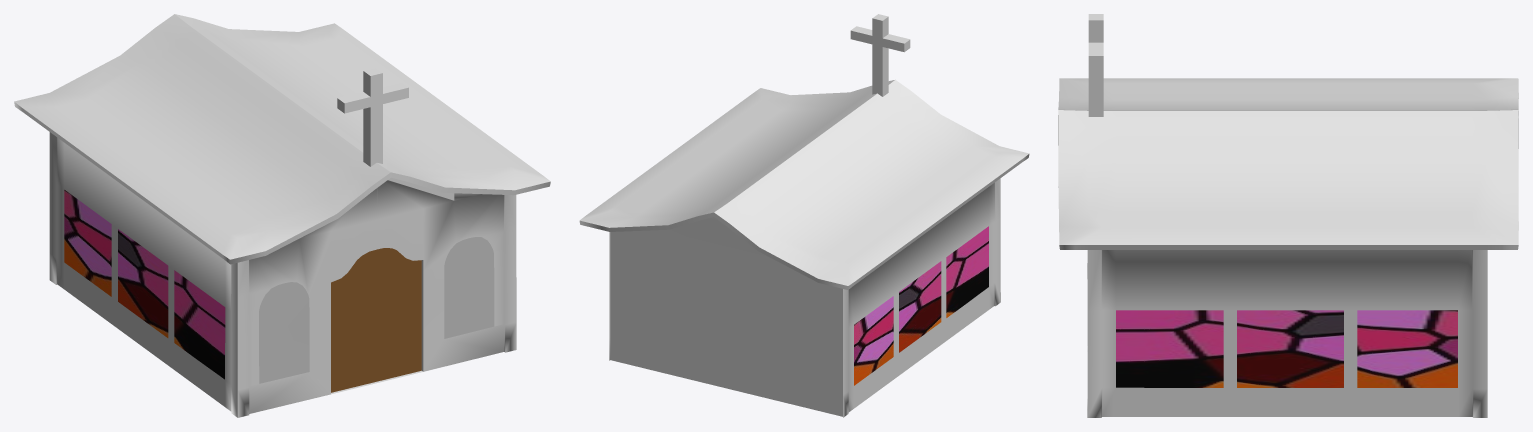
The model's file is igreja.fbx.
3 views of the same model, side by side, from view 1: azimuth 30°, elevation 25°; view 2: azimuth 150°, elevation 25°; view 3: azimuth 270°, elevation 25° (orthographic). The views are drawn at different scales.
Visible parts, largest first — view 1: Cube, Cube.002, Cube.001; view 2: Cube, Cube.002, Cube.001; view 3: Cube.002, Cube, Cube.001.
Part boxes in pixels (left/top/right/bottom): Cube: left=49, top=132, right=516, bottom=417; Cube.002: left=14, top=14, right=550, bottom=264; Cube.001: left=337, top=68, right=408, bottom=166; Cube: left=609, top=178, right=1000, bottom=417; Cube.002: left=579, top=79, right=1029, bottom=289; Cube.001: left=850, top=14, right=910, bottom=96; Cube.002: left=1058, top=78, right=1518, bottom=249; Cube: left=1087, top=250, right=1487, bottom=417; Cube.001: left=1088, top=14, right=1103, bottom=116.
Size of the model in its own units: 1592 by 1462 by 1859.
